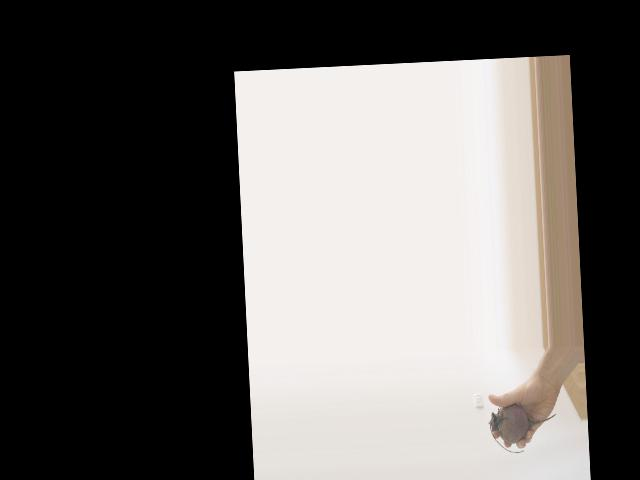beet: (488, 403, 558, 455)
